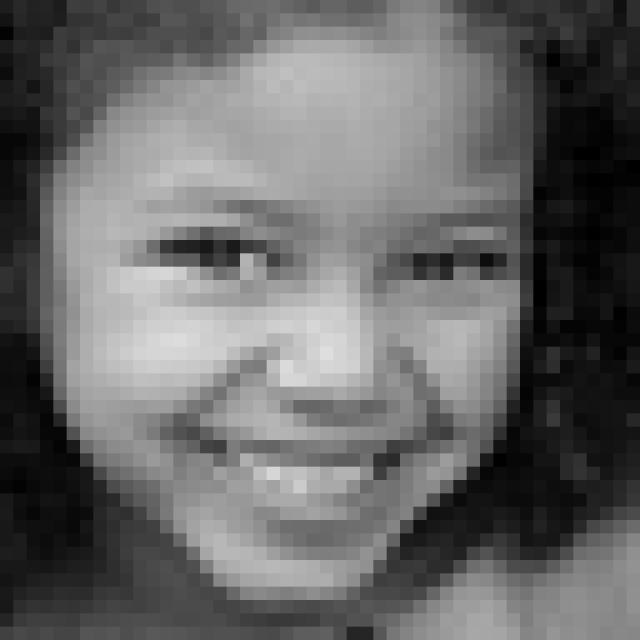happy: (127, 180, 528, 551)
